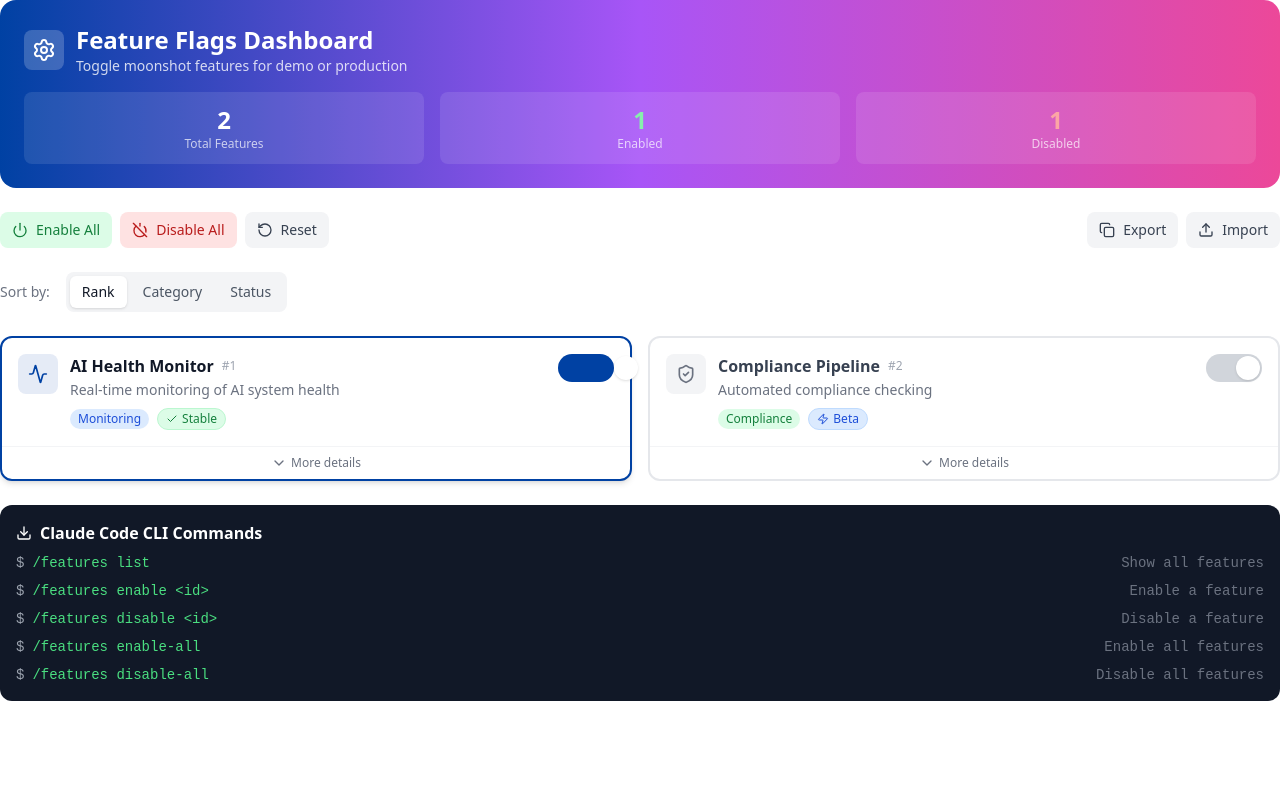
Scenario: FeatureFlagsDashboard › Feature Card Interactions › should expand feature details on More details click
Click the button "More details" below "Stable": (316, 462) [2, 446, 630, 479]
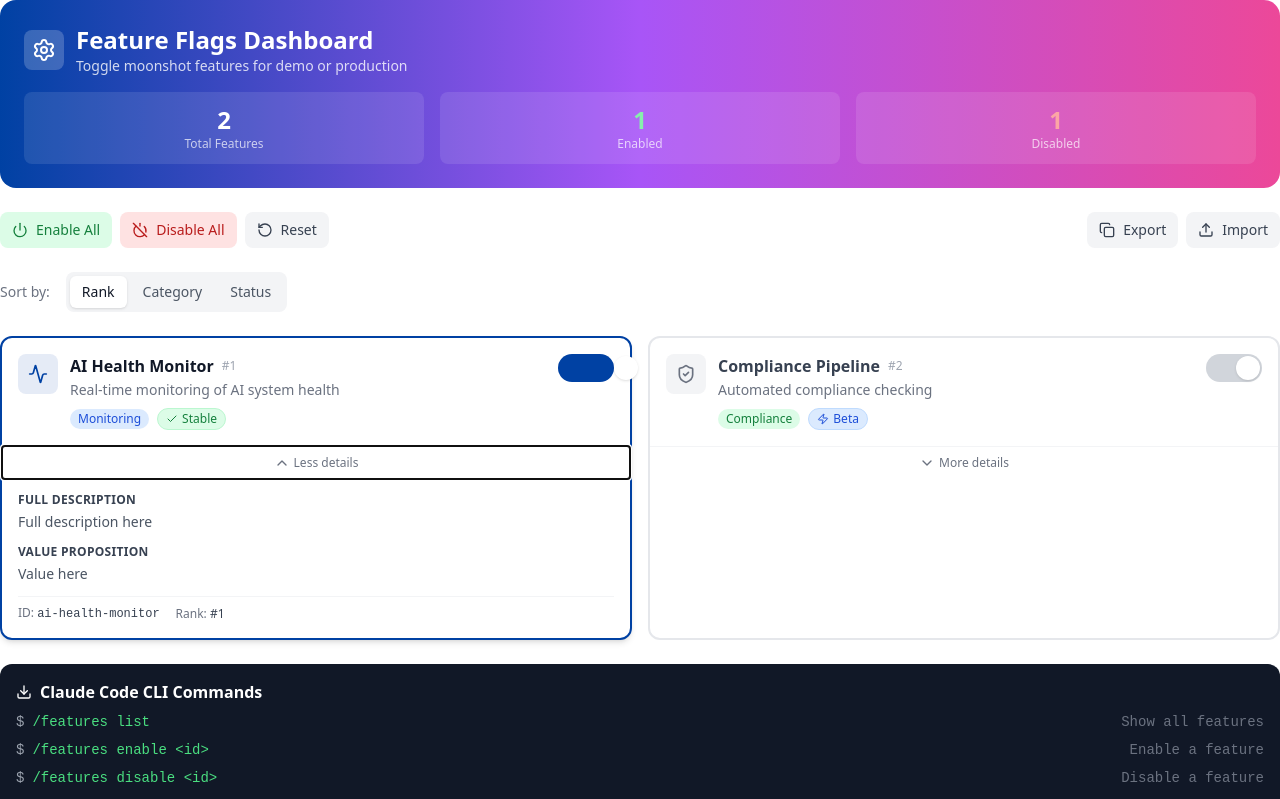
Check: the heading "Full Description" is shown, box [18, 491, 136, 508]
Check: the heading "Value Proposition" is shown, box [18, 543, 149, 560]
